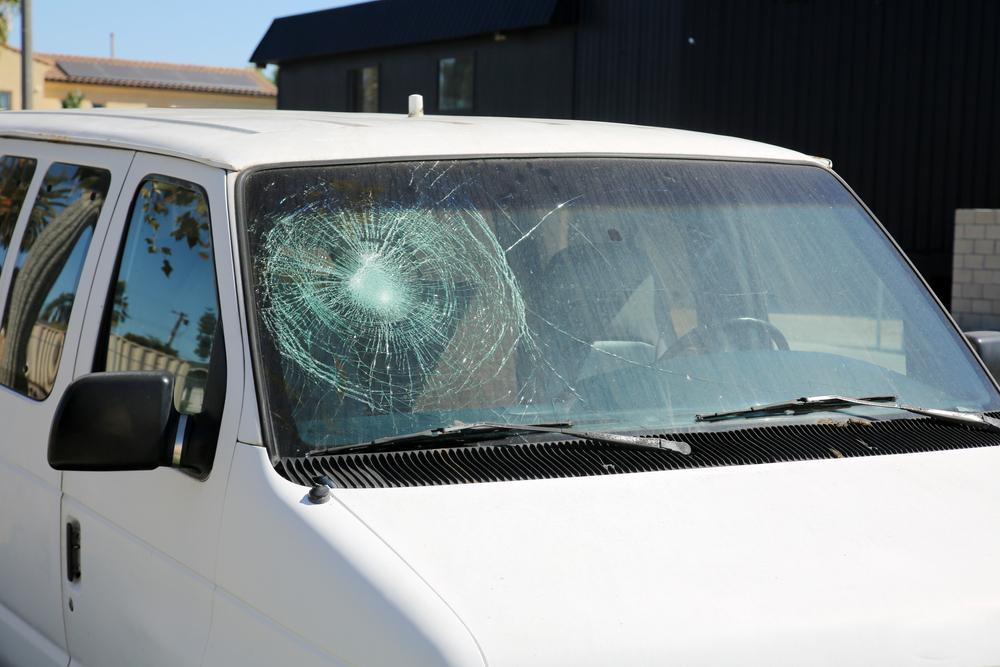glass shatter: (244, 156, 1000, 454)
